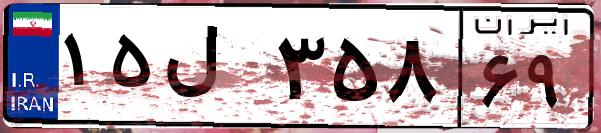1: (57, 26, 110, 100)
3: (270, 28, 330, 110)
5: (330, 28, 385, 110), (110, 28, 158, 98)
6: (475, 38, 525, 113)
8: (385, 28, 445, 110)
9: (525, 38, 570, 115)
ل: (158, 20, 270, 120)
